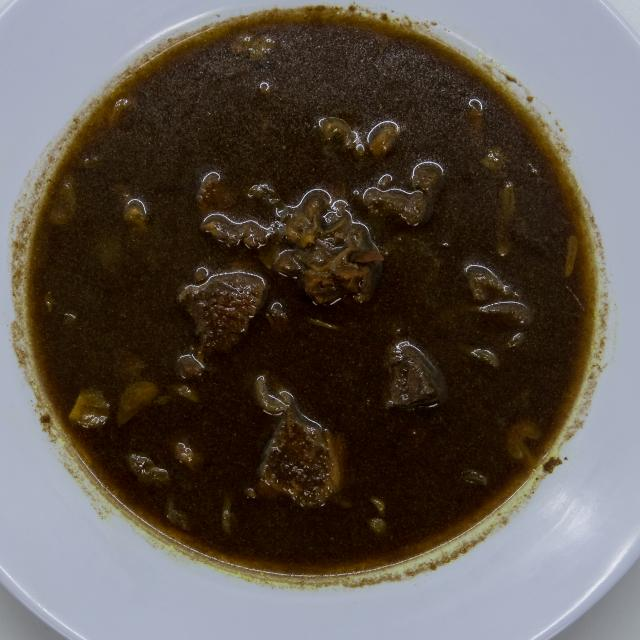Rawon-Surabaya: (29, 3, 609, 586)
